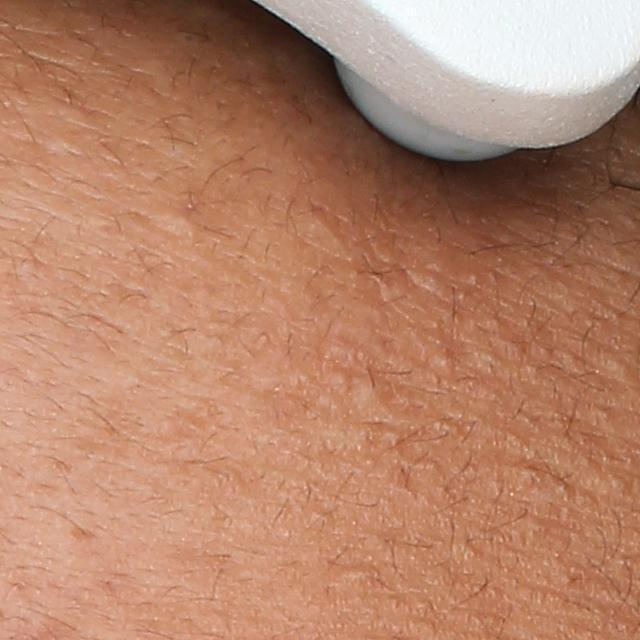comedo: (351, 373, 392, 414), (156, 209, 193, 237), (427, 345, 455, 379)
